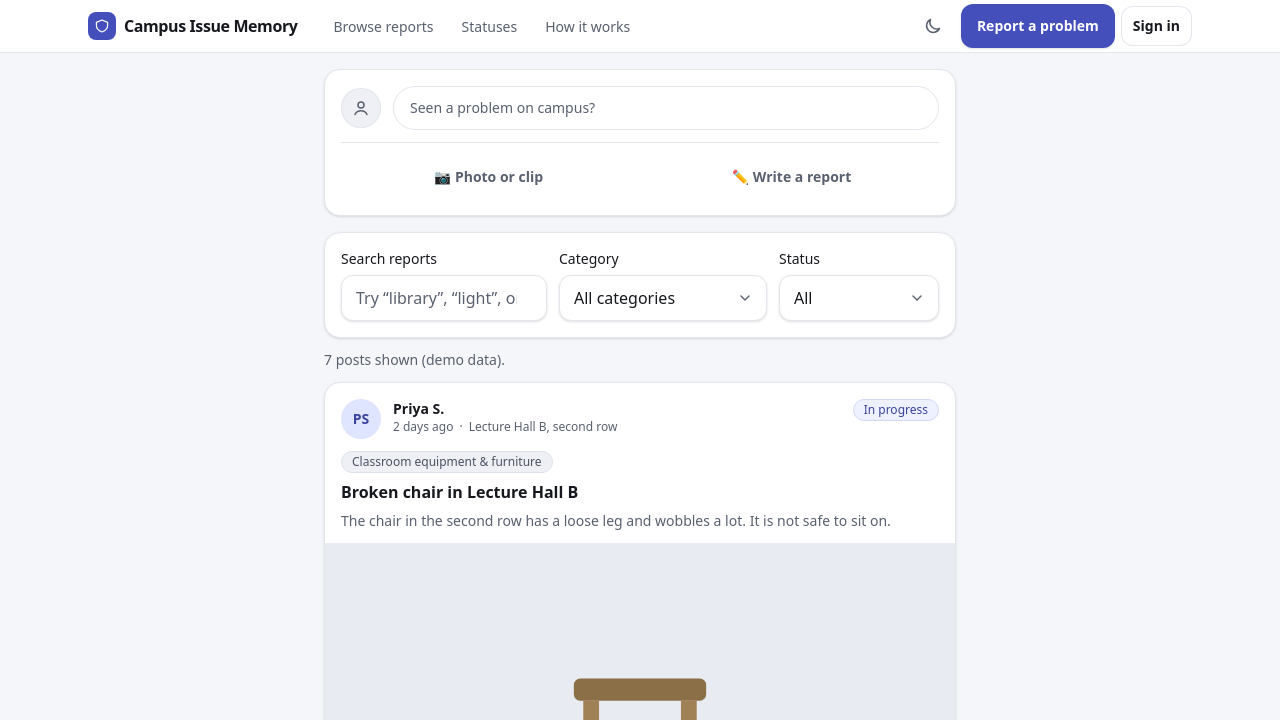
Test case: App › shows an empty state with a way back when nothing matches
Expected: the heading "Broken chair in Lecture Hall B" is shown, top-left (341, 481), bottom-right (578, 503)
In the search field labelled "Search reports": (444, 298) top-left (341, 275), bottom-right (547, 321), type "zzzzzz"
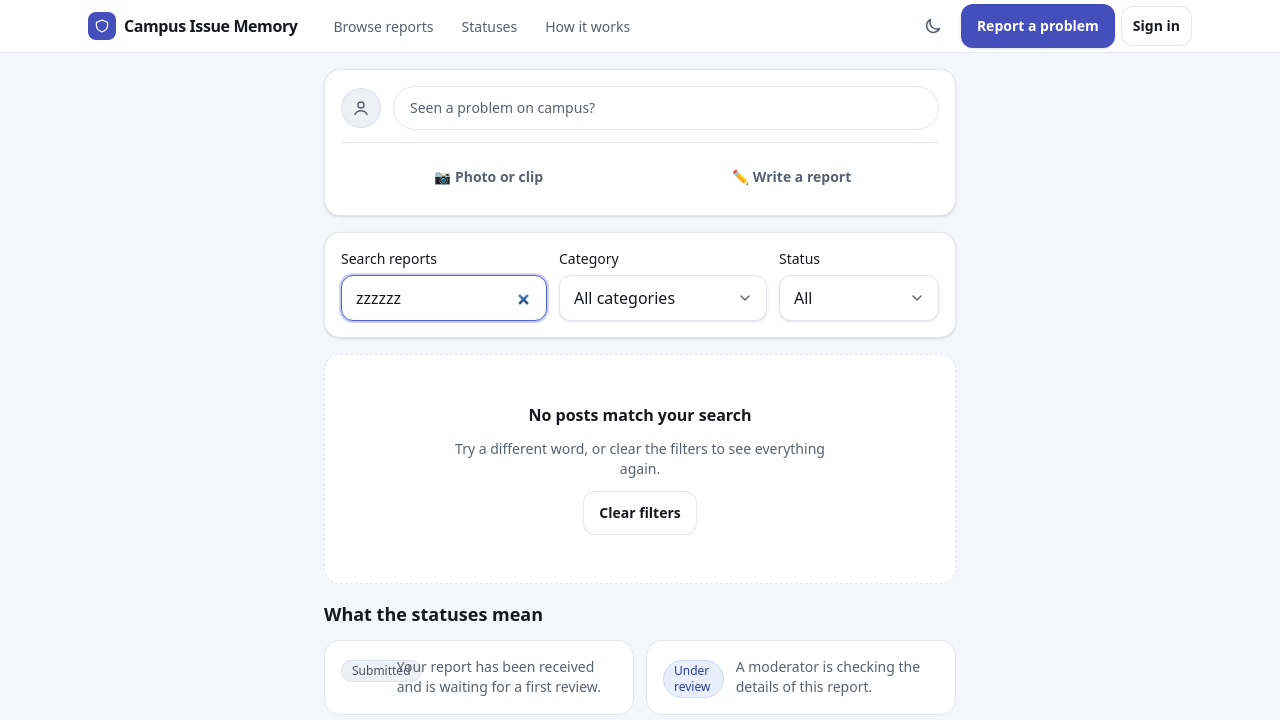
Now the heading "No posts match your search" is shown, box top-left (528, 403), bottom-right (752, 427)
Click the button "Clear filters": (640, 513) top-left (583, 491), bottom-right (697, 535)
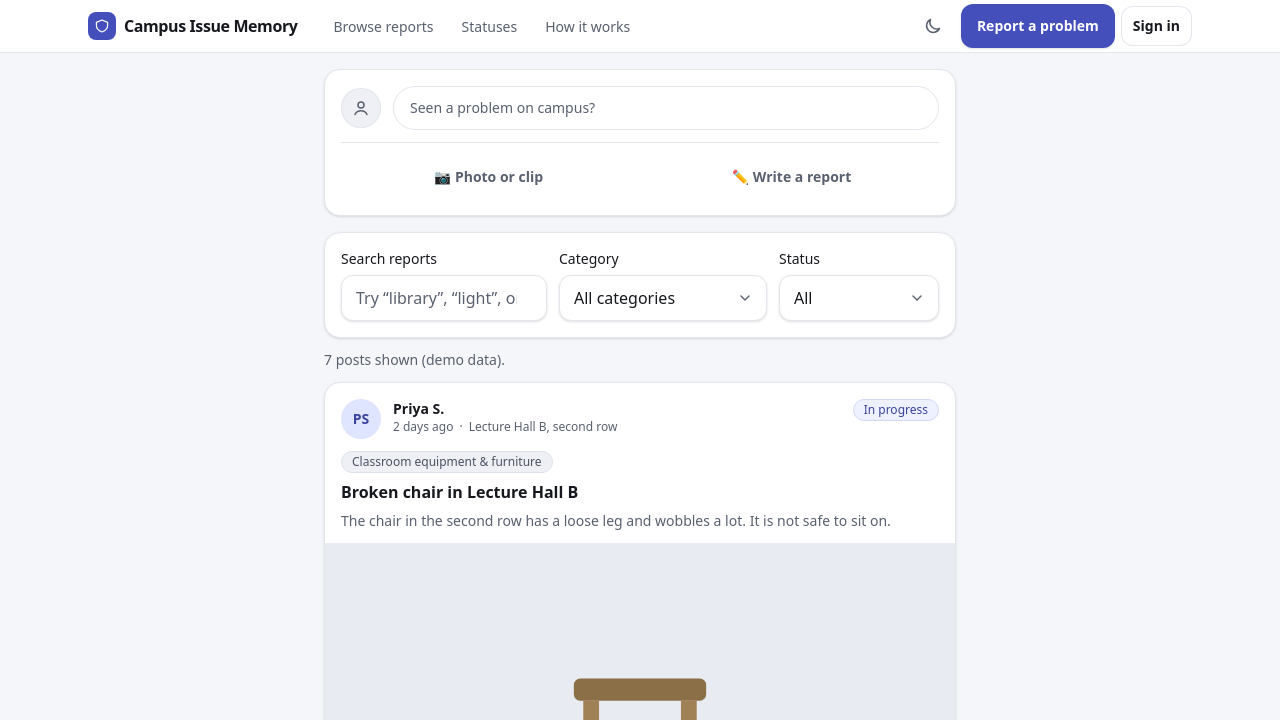
Now the heading "Broken chair in Lecture Hall B" is shown, box top-left (341, 481), bottom-right (578, 503)
